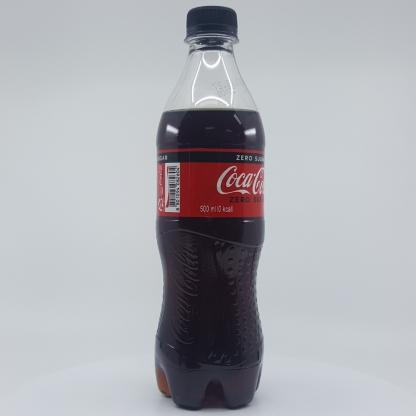------500ML: (155, 4, 265, 410)
